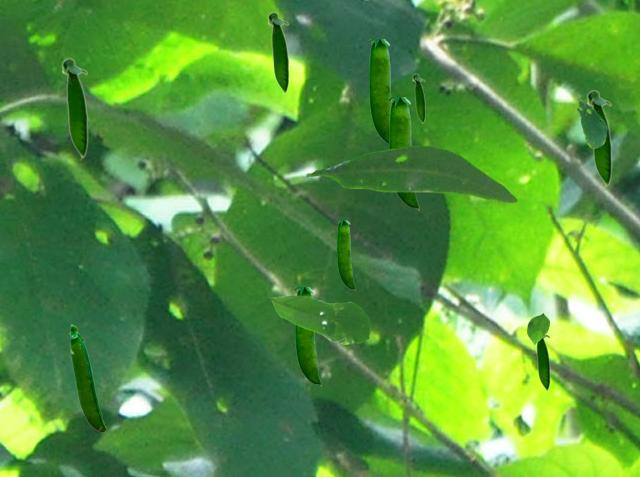pea: (69, 324, 105, 431), (389, 97, 418, 209), (61, 57, 87, 159), (586, 89, 611, 187), (295, 287, 320, 385), (369, 39, 391, 144), (267, 11, 288, 94), (337, 220, 354, 289), (536, 334, 549, 391), (412, 73, 424, 123)
